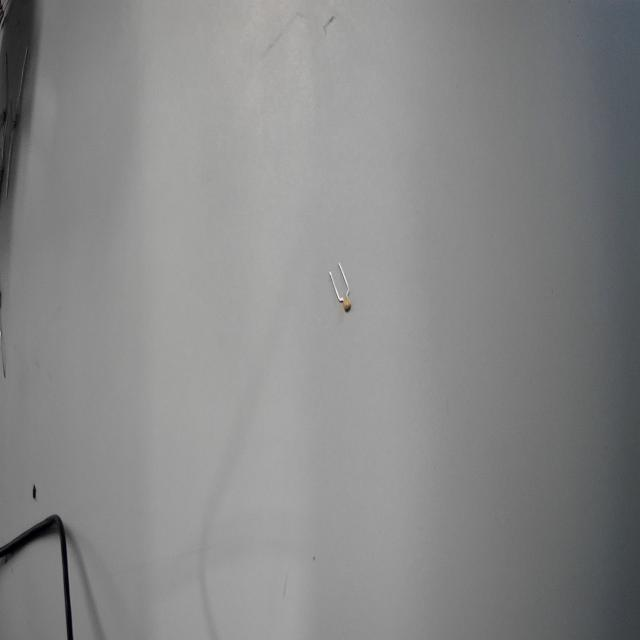capacitor: (331, 279, 362, 327)
